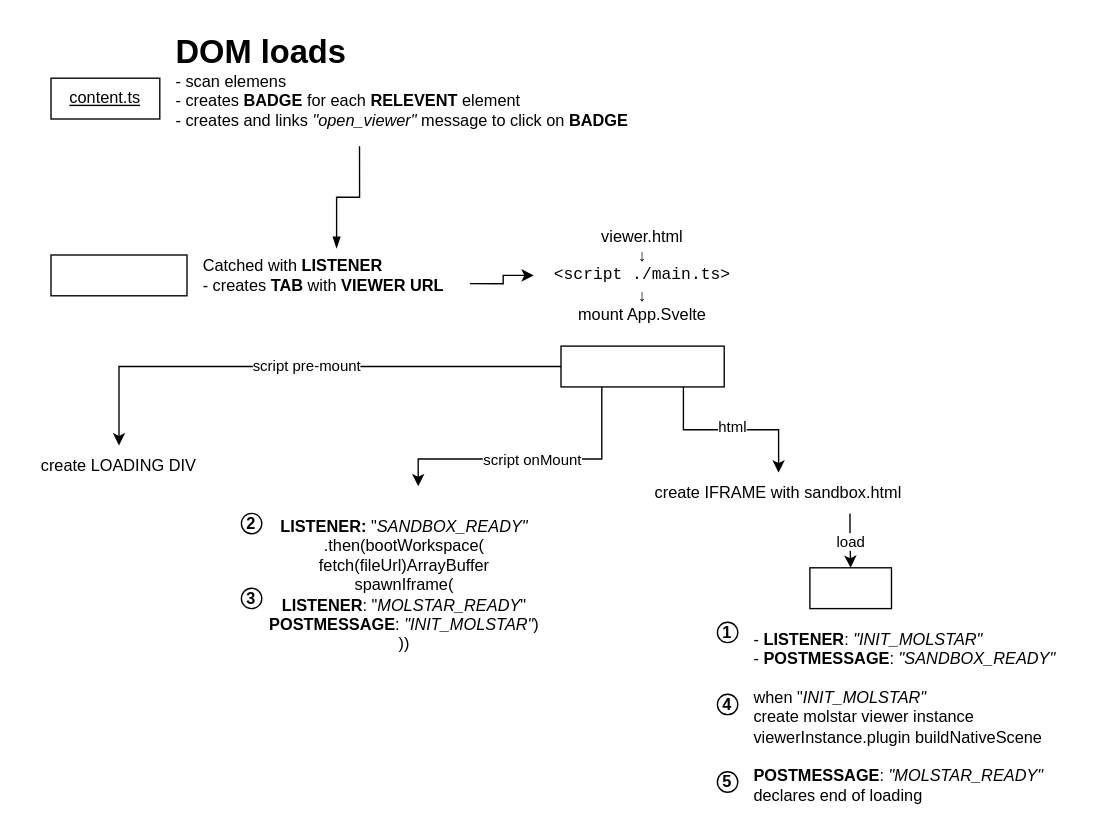
Image size: 1114x835. Some labels were removed from this diagram. Here are the shapes that lost their labels. From the top down, the box of each, then its label:
(50, 254, 187, 296): background.ts
(560, 345, 724, 387): viewer/App.svelte
(809, 566, 891, 609): main.ts
